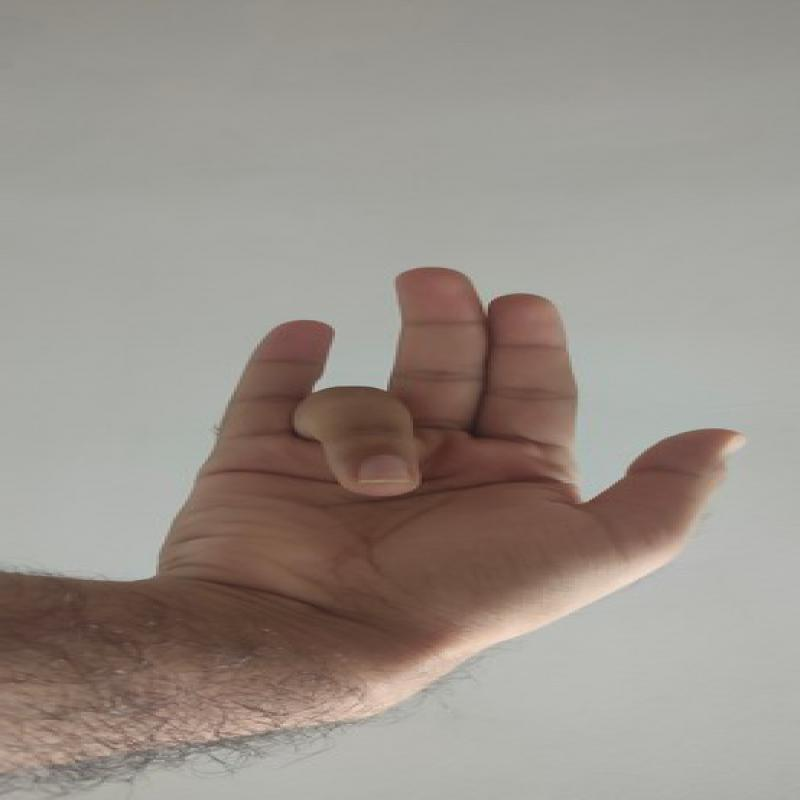Pathaaka: (149, 259, 754, 629)
